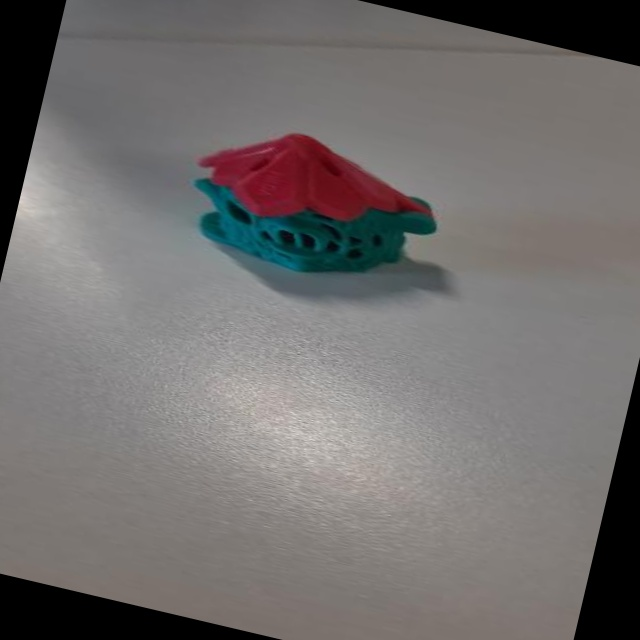House: (163, 101, 503, 342)
